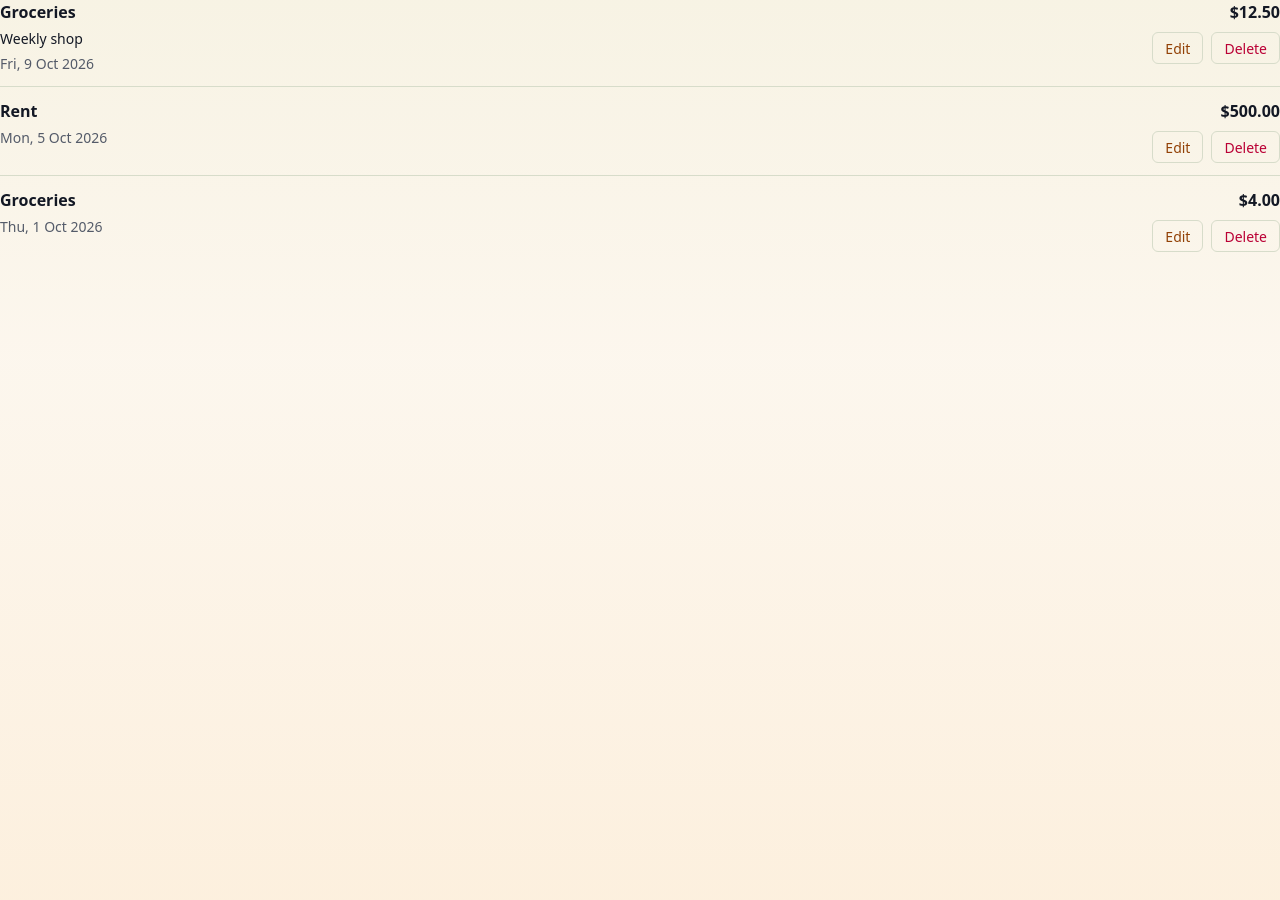
Test: fading out a deleted row › keeps the deleted row on screen, hidden and inert, while it fades
The image size is (1280, 900).
Click the button "Delete" below "$500.00".
click(1246, 147)  # box [1211,131,1279,163]
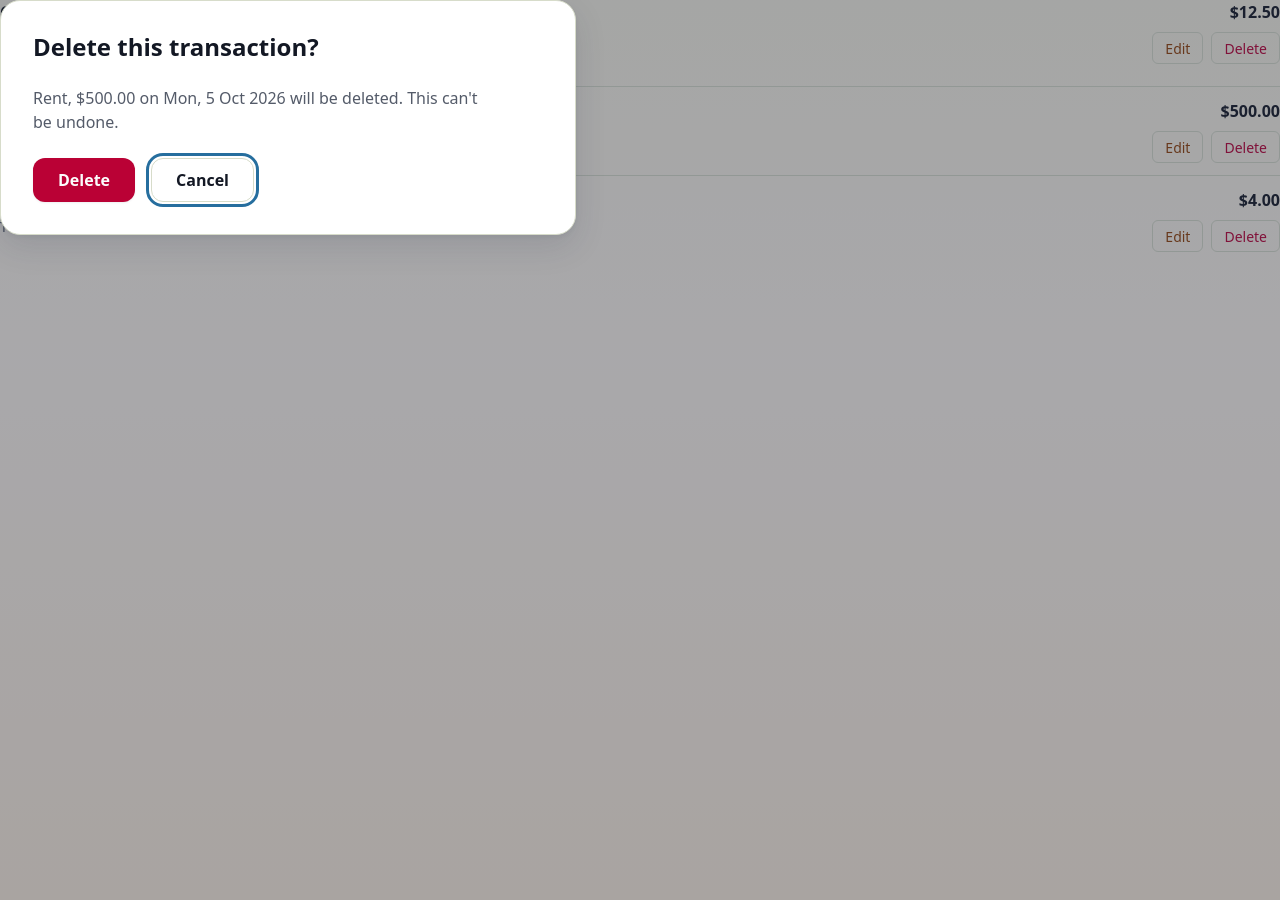
Click the button "Delete".
click(84, 180)  # box [33,158,135,202]
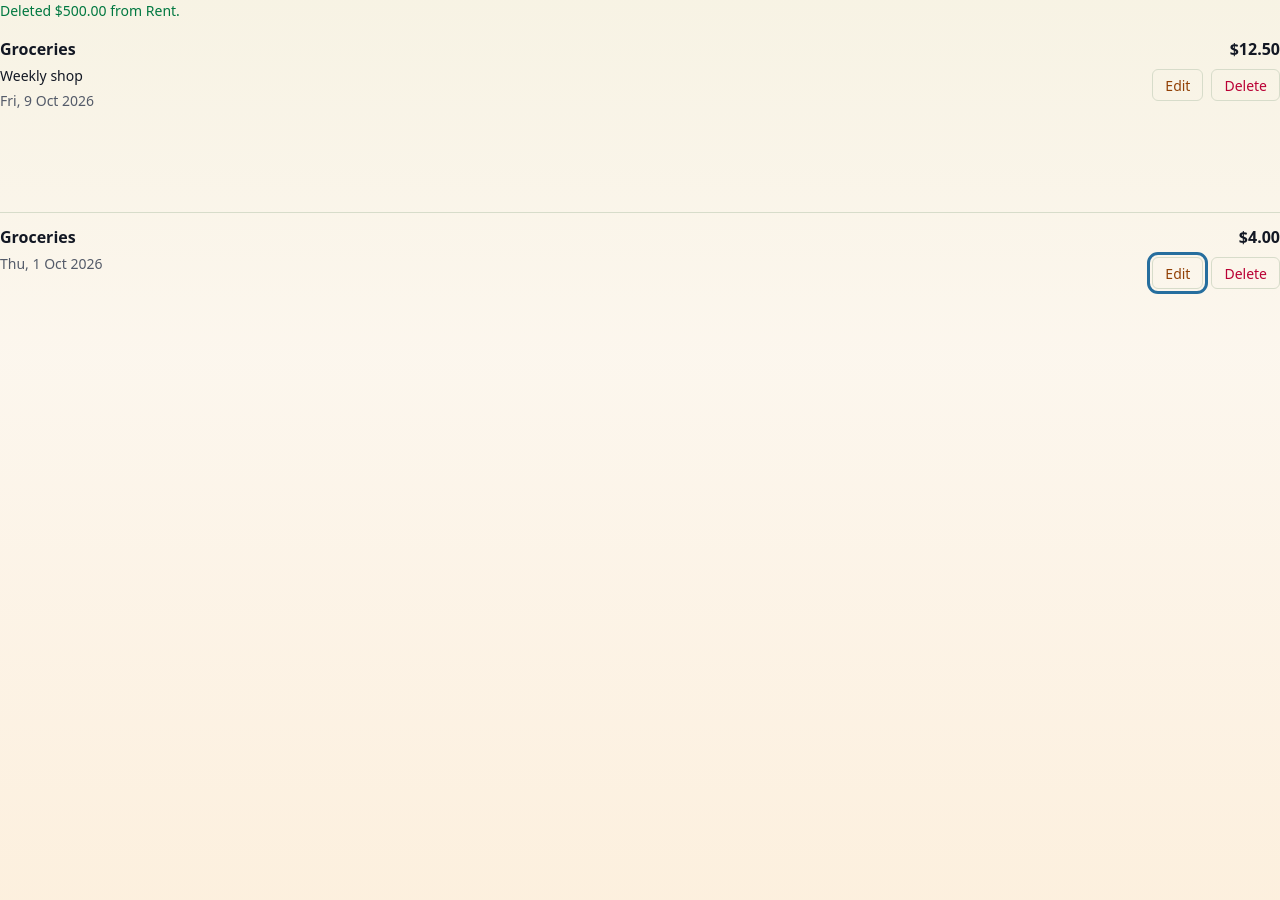
Expected: the number of list items is 2, [0,37,1279,123]; [0,212,1279,289]
